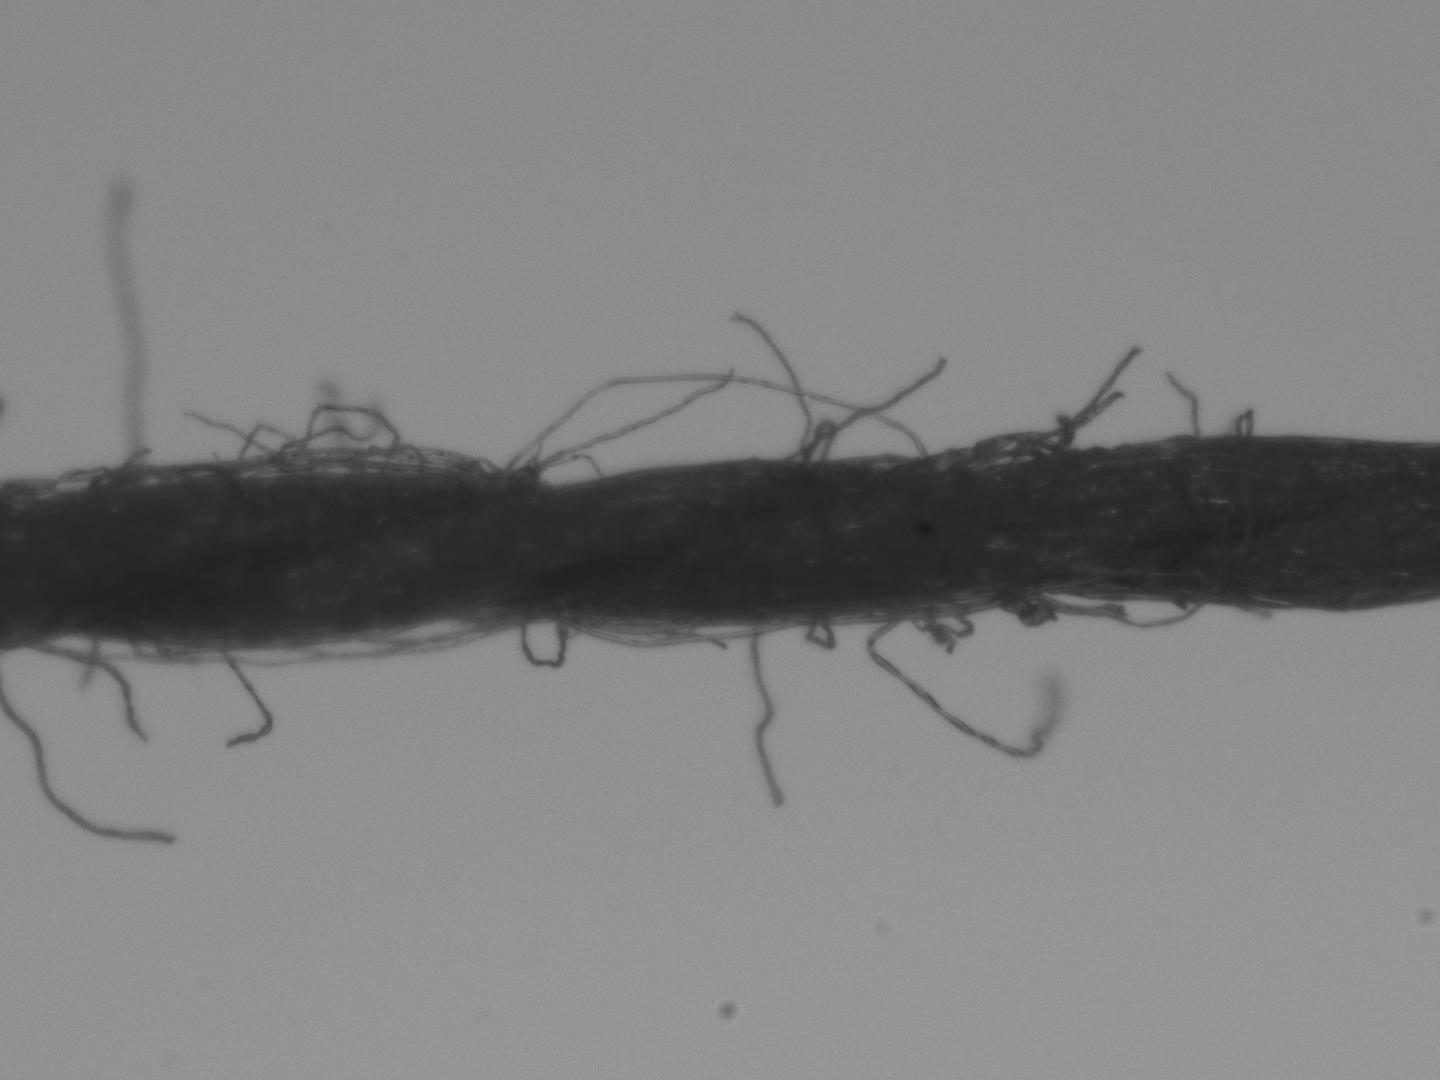loop_fiber: (503, 372, 926, 483), (1027, 590, 1204, 630), (576, 618, 796, 649), (935, 438, 1056, 473), (87, 463, 231, 488), (362, 618, 484, 644), (517, 615, 568, 673), (126, 638, 214, 663), (907, 613, 972, 635), (805, 615, 836, 647), (1231, 408, 1255, 436)
protruding_fiber: (869, 615, 1059, 761), (789, 358, 949, 458), (1049, 345, 1142, 456), (749, 625, 786, 811)
